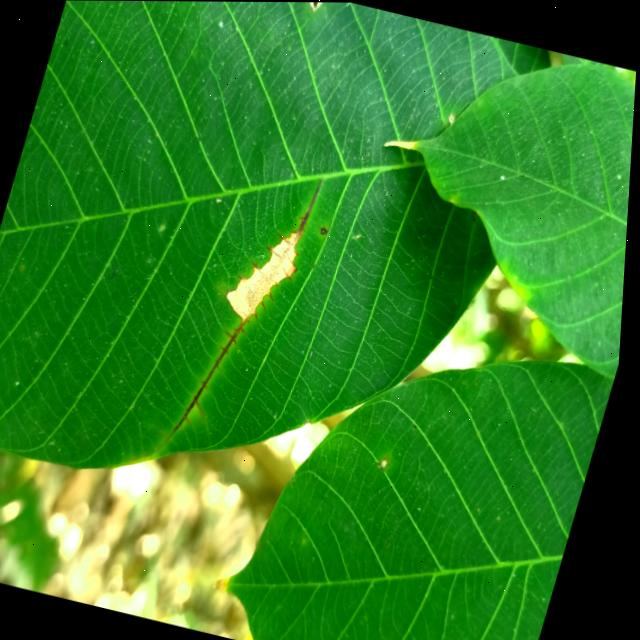Colletotrichum: (323, 225, 330, 234)
Corynespora: (177, 307, 255, 442), (293, 174, 325, 237)
Leaf-Blight: (224, 220, 309, 326), (384, 134, 419, 153)
